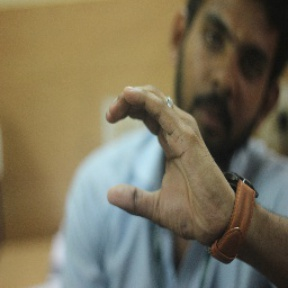C: (99, 80, 215, 233)
